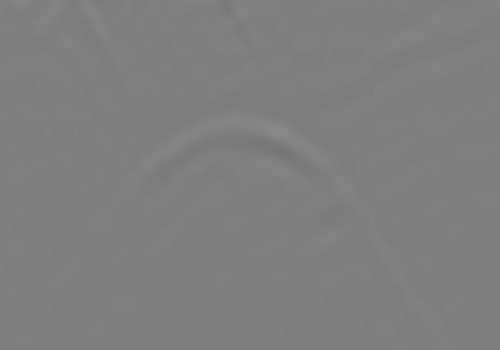hyperbola: (113, 114, 397, 278)
